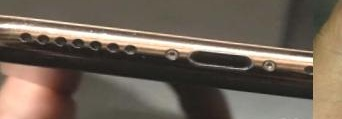scratch: (0, 11, 313, 104)
